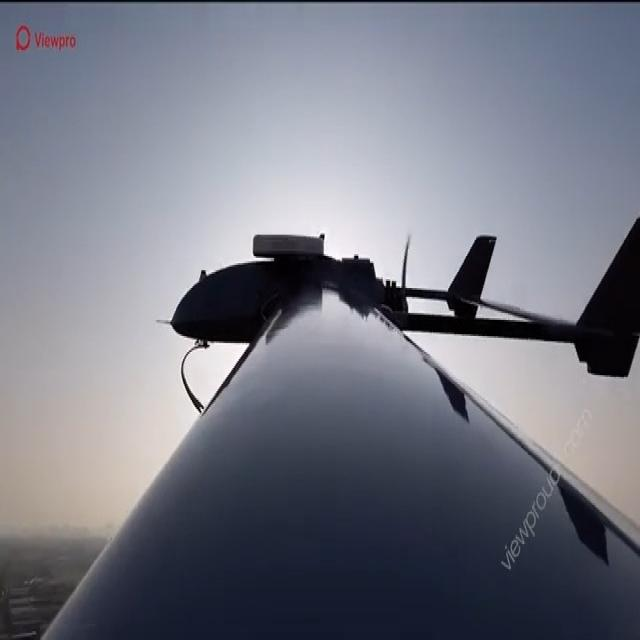drones: (153, 181, 640, 603)
